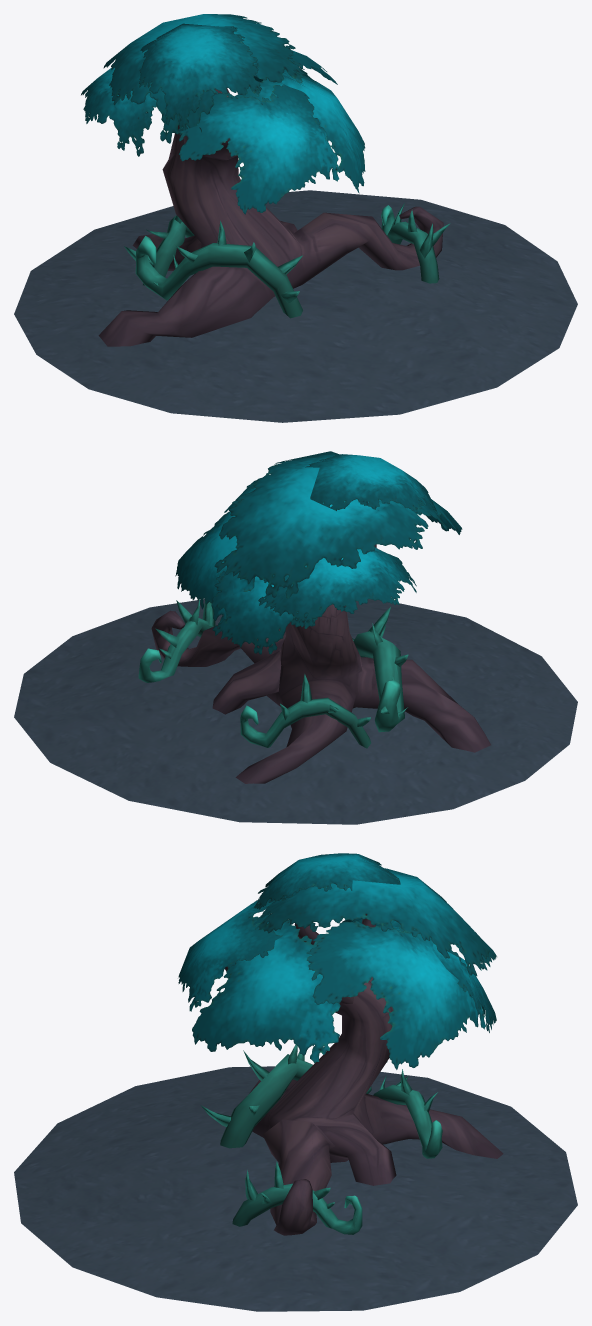
The model's file is Low_poly_TreeBlue.obj.
3 views of the same model, one above another, from view 1: azimuth 30°, elevation 25°; view 2: azimuth 150°, elevation 25°; view 3: azimuth 270°, elevation 25° (orthographic). The views are drawn at different scales.
Parts seen in each view (by area): view 1: Low_poly_Tree4.001; view 2: Low_poly_Tree4.001; view 3: Low_poly_Tree4.001.
Boxes of the visible parts, bbox=[...] form: Low_poly_Tree4.001: bbox=[14, 14, 577, 422]; Low_poly_Tree4.001: bbox=[14, 451, 577, 824]; Low_poly_Tree4.001: bbox=[14, 853, 577, 1311].
Bounding box in the file's own units: 30.37 × 17.33 × 29.36.
1 material, 1 textured.
